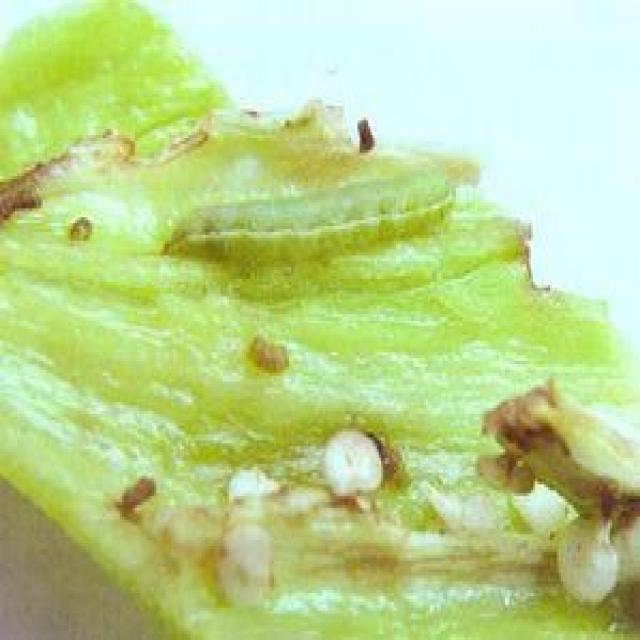BeetArmyWorm-Larva-: (162, 158, 464, 274)
